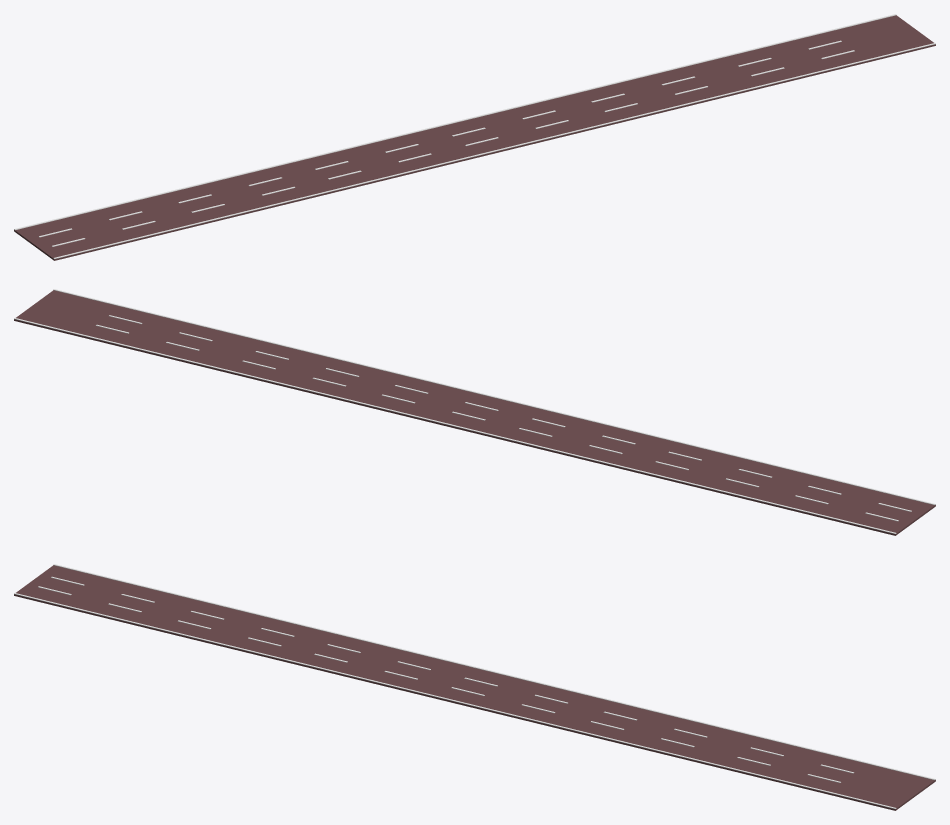
Rendered from chedao_03.FBX.
3 renders of one model, top to bottom at view 1: azimuth 30°, elevation 25°; view 2: azimuth 150°, elevation 25°; view 3: azimuth 330°, elevation 25°, orthographic.
Visible parts, largest first — view 1: chedao_03; view 2: chedao_03; view 3: chedao_03.
Part boxes in pixels (x1,y1,x2,y2): chedao_03: [14, 14, 935, 260]; chedao_03: [14, 289, 935, 535]; chedao_03: [14, 564, 935, 810].
Bounding box in the file's own units: 19138 × 46.66 × 1520.
